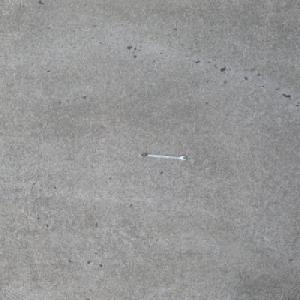Wrench: (139, 152, 187, 160)
